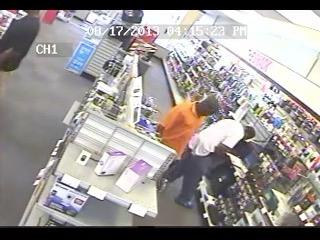shoplifting: (203, 142, 252, 200)
